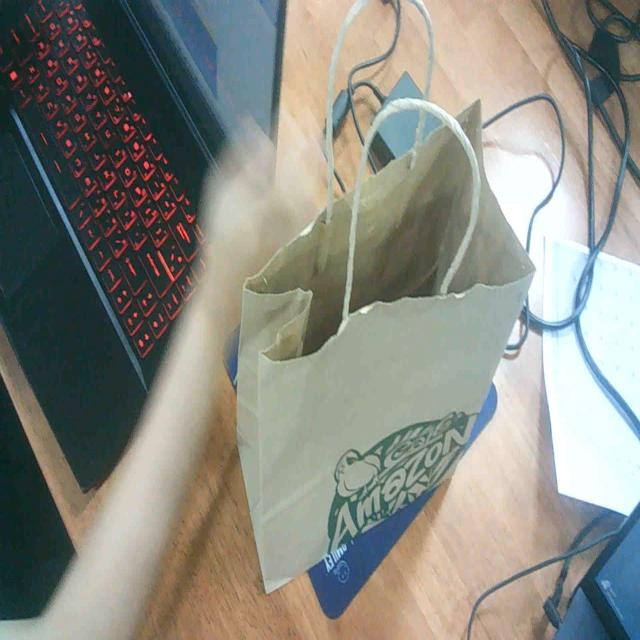bag: (243, 103, 529, 619)
